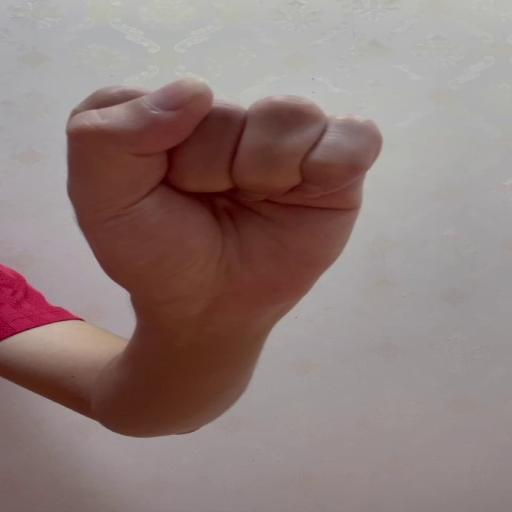fist: (64, 75, 383, 307)
